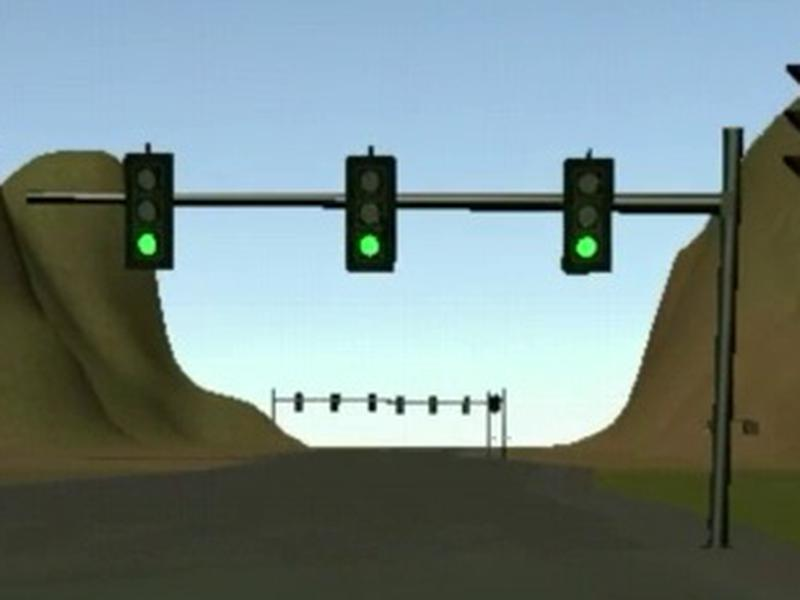Green: (560, 158, 612, 277), (122, 152, 174, 270), (345, 155, 396, 272)
